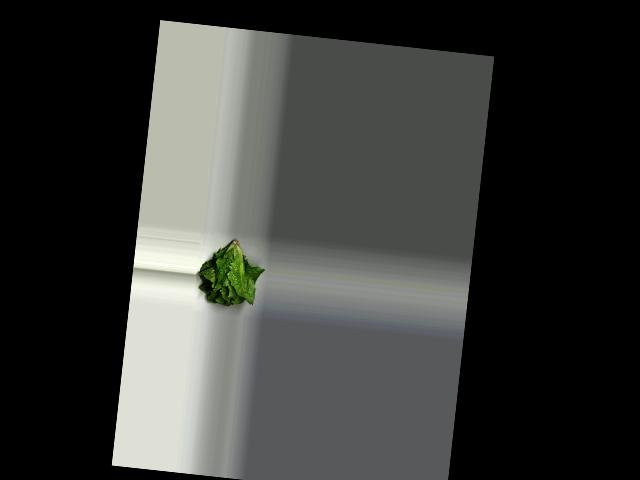lettuce: (195, 234, 267, 310)
